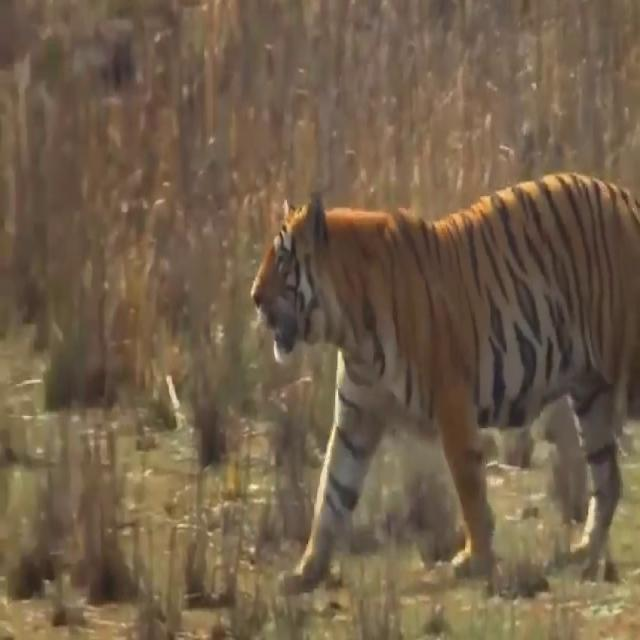tiger: (249, 170, 640, 590)
